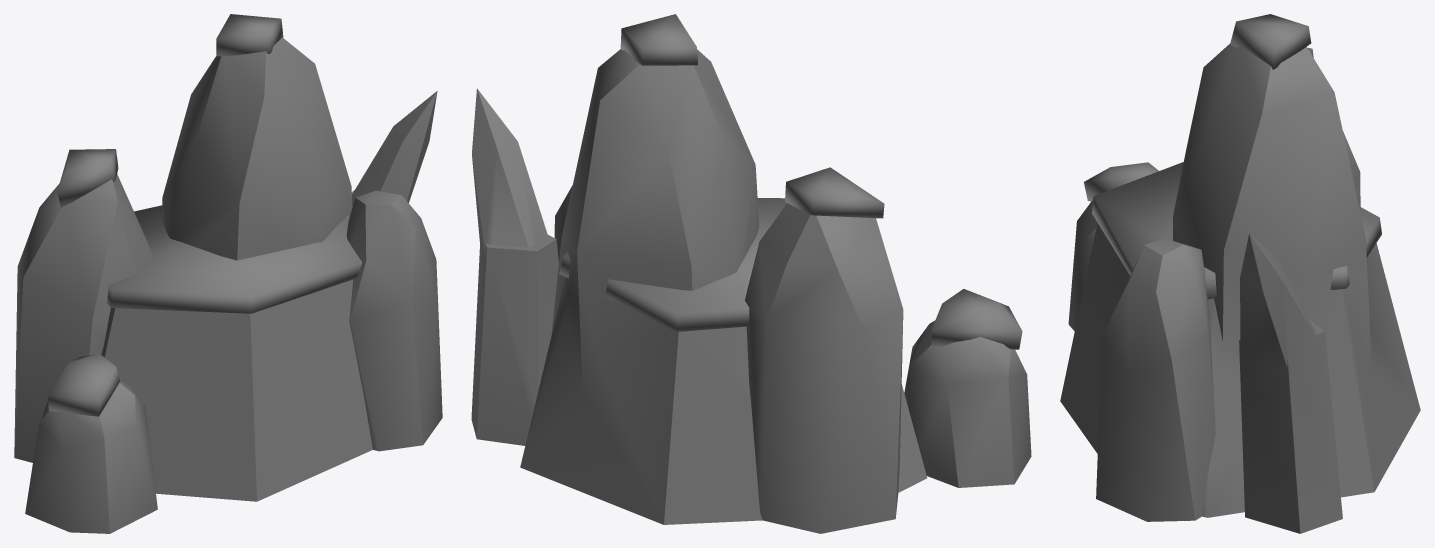
The model's file is rocks_snow_A_blue.fbx.
3 renders of one model, left to right at view 1: azimuth 30°, elevation 25°; view 2: azimuth 150°, elevation 25°; view 3: azimuth 270°, elevation 25°, orthographic. The views are drawn at different scales.
Parts seen in each view (by area): view 1: rocks_snow_A_blue; view 2: rocks_snow_A_blue; view 3: rocks_snow_A_blue.
Part boxes in pixels (x1,y1,x2,y2): rocks_snow_A_blue: [14, 14, 442, 533]; rocks_snow_A_blue: [471, 14, 1031, 533]; rocks_snow_A_blue: [1060, 14, 1420, 533].
Size of the model in its own units: 5.36 by 4.43 by 3.36.
